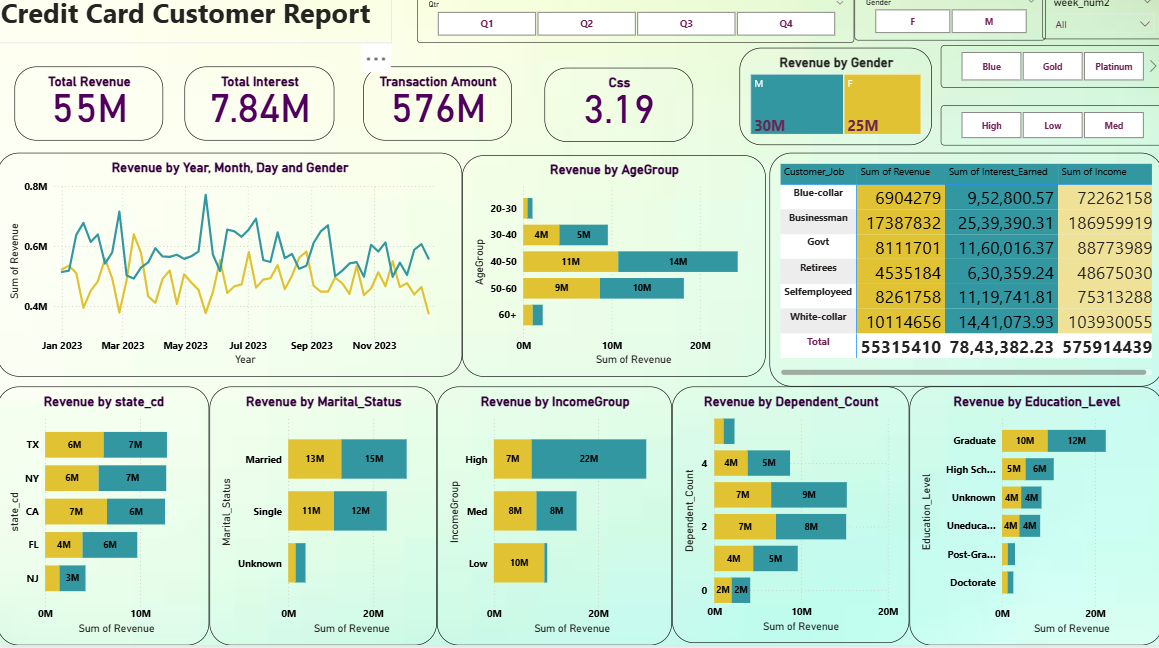

The page's visual inventory and layout, read from the dashboard file:
{"tool":"powerbi","page":{"name":"Page 2","canvas":[1600,900],"ordinal":1},"visuals":[{"type":"card","title":"Total Revenue","fields":{"Values":["Sum(credit_card.Revenue)"]},"box":[24,106.3,204.1,101.2],"z":0},{"type":"card","title":"Total Interest","fields":{"Values":["Sum(credit_card.Interest_Earned)"]},"box":[257.3,106.3,205.8,101.2],"z":1000},{"type":"card","title":" Transaction Amount","fields":{"Values":["Sum(customer.Income)"]},"box":[502.6,106.3,204.1,101.2],"z":2000},{"type":"card","title":"Css","fields":{"Values":["Avg(customer.Cust_Satisfaction_Score)"]},"box":[751.3,108.1,204.1,101.2],"z":3000},{"type":"pivotTable","fields":{"Values":["Sum(credit_card.Revenue)","Sum(credit_card.Interest_Earned)","Sum(customer.Income)"],"Rows":["customer.Customer_Job"]},"box":[1060,224.7,540.3,320.8],"z":4000},{"type":"lineChart","title":" Revenue by Year, Month, Day and Gender","fields":{"Y":["Sum(credit_card.Revenue)"],"Series":["customer.Gender"],"Category":["credit_card.Week_Start_Date.Variation.Date Hierarchy.Year","credit_card.Week_Start_Date.Variation.Date Hierarchy.Month","credit_card.Week_Start_Date.Variation.Date Hierarchy.Day"]},"box":[0,224.7,638.1,307],"z":5000},{"type":"treemap","title":" Revenue by Gender","fields":{"Group":["customer.Gender"],"Values":["Sum(credit_card.Revenue)"]},"box":[1018.9,80.6,264.2,133.8],"z":6000},{"type":"barChart","title":" Revenue by AgeGroup","fields":{"Category":["customer.AgeGroup"],"Y":["Sum(credit_card.Revenue)"],"Series":["customer.Gender"]},"box":[638.1,228.1,416.8,303.6],"z":7000},{"type":"barChart","title":" Revenue by state_cd ","fields":{"Category":["customer.state_cd"],"Series":["customer.Gender"],"Y":["Sum(credit_card.Revenue)"]},"box":[0,545.5,291.6,355.1],"z":7001},{"type":"barChart","title":"Revenue by Marital_Status ","fields":{"Category":["customer.Marital_Status"],"Y":["Sum(credit_card.Revenue)"],"Series":["customer.Gender"]},"box":[291.6,545.5,312.2,355.1],"z":7002},{"type":"barChart","title":" Revenue by IncomeGroup ","fields":{"Y":["Sum(credit_card.Revenue)"],"Category":["customer.IncomeGroup"],"Series":["customer.Gender"]},"box":[603.8,545.5,322.5,355.1],"z":7003},{"type":"barChart","title":"Revenue by Dependent_Count","fields":{"Category":["customer.Dependent_Count"],"Series":["customer.Gender"],"Y":["Sum(credit_card.Revenue)"]},"box":[926.2,545.5,325.9,351.6],"z":7004},{"type":"barChart","title":"Revenue by Education_Level ","fields":{"Category":["customer.Education_Level"],"Y":["Sum(credit_card.Revenue)"],"Series":["customer.Gender"]},"box":[1252.1,545.5,348.2,355.1],"z":7005},{"type":"slicer","title":"Gender","fields":{"Values":["customer.Gender"]},"box":[1176.7,3.4,262.4,66.9],"z":7006},{"type":"slicer","title":"QTR","fields":{"Values":["credit_card.Qtr"]},"box":[576.3,6.9,600.3,66.9],"z":7007},{"type":"slicer","title":"CArd Category","fields":{"Values":["credit_card.Card_Category"]},"box":[1295,77.2,305.3,58.3],"z":7008},{"type":"slicer","title":"Income group","fields":{"Values":["customer.IncomeGroup"]},"box":[1295,159.5,305.3,54.9],"z":7009},{"type":"slicer","fields":{"Values":["credit_card.week_num2"]},"box":[1434,1.7,166.4,66.9],"z":7010},{"type":"textbox","box":[0,1.7,542,72],"z":7011}]}

Visuals, with their boxes in screenshot pixels (x1, y1, x2, y2), scaled from the page's 1600x900 canvas onto the 1159x648 screenshot:
"Total Revenue" card: bbox=[17, 77, 165, 149]
"Total Interest" card: bbox=[186, 77, 335, 149]
" Transaction Amount" card: bbox=[364, 77, 512, 149]
"Css" card: bbox=[544, 78, 692, 151]
pivotTable - Sum(credit_card.Revenue) x Sum(credit_card.Interest_Earned): bbox=[768, 162, 1158, 393]
" Revenue by Year, Month, Day and Gender" lineChart: bbox=[0, 162, 462, 383]
" Revenue by Gender" treemap: bbox=[738, 58, 929, 154]
" Revenue by AgeGroup" barChart: bbox=[462, 164, 764, 383]
" Revenue by state_cd " barChart: bbox=[0, 393, 211, 647]
"Revenue by Marital_Status " barChart: bbox=[211, 393, 437, 647]
" Revenue by IncomeGroup " barChart: bbox=[437, 393, 671, 647]
"Revenue by Dependent_Count" barChart: bbox=[671, 393, 907, 646]
"Revenue by Education_Level " barChart: bbox=[907, 393, 1158, 647]
"Gender" slicer: bbox=[852, 2, 1042, 51]
"QTR" slicer: bbox=[417, 5, 852, 53]
"CArd Category" slicer: bbox=[938, 56, 1158, 98]
"Income group" slicer: bbox=[938, 115, 1158, 154]
slicer - credit_card.week_num2: bbox=[1039, 1, 1158, 49]
textbox: bbox=[0, 1, 393, 53]
